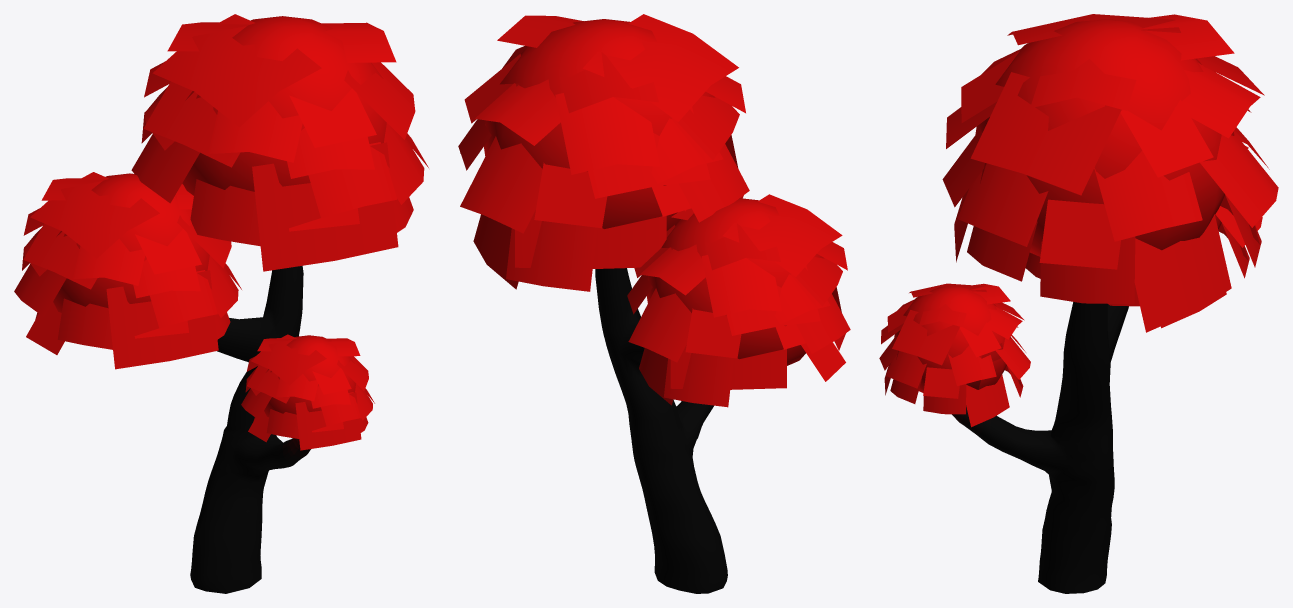
File: trunkvar2Model.fbx
3 views of the same model, side by side, from view 1: azimuth 30°, elevation 25°; view 2: azimuth 150°, elevation 25°; view 3: azimuth 270°, elevation 25° (orthographic). The views are drawn at different scales.
Visible parts, largest first — view 1: Oak5; view 2: Oak5; view 3: Oak5.
Part boxes in pixels (box(x1,y1,x2,y2)): Oak5: box(14, 14, 428, 593); Oak5: box(458, 14, 850, 593); Oak5: box(879, 14, 1278, 593).
Bounding box in the file's own units: 85.03 × 113 × 69.47.
